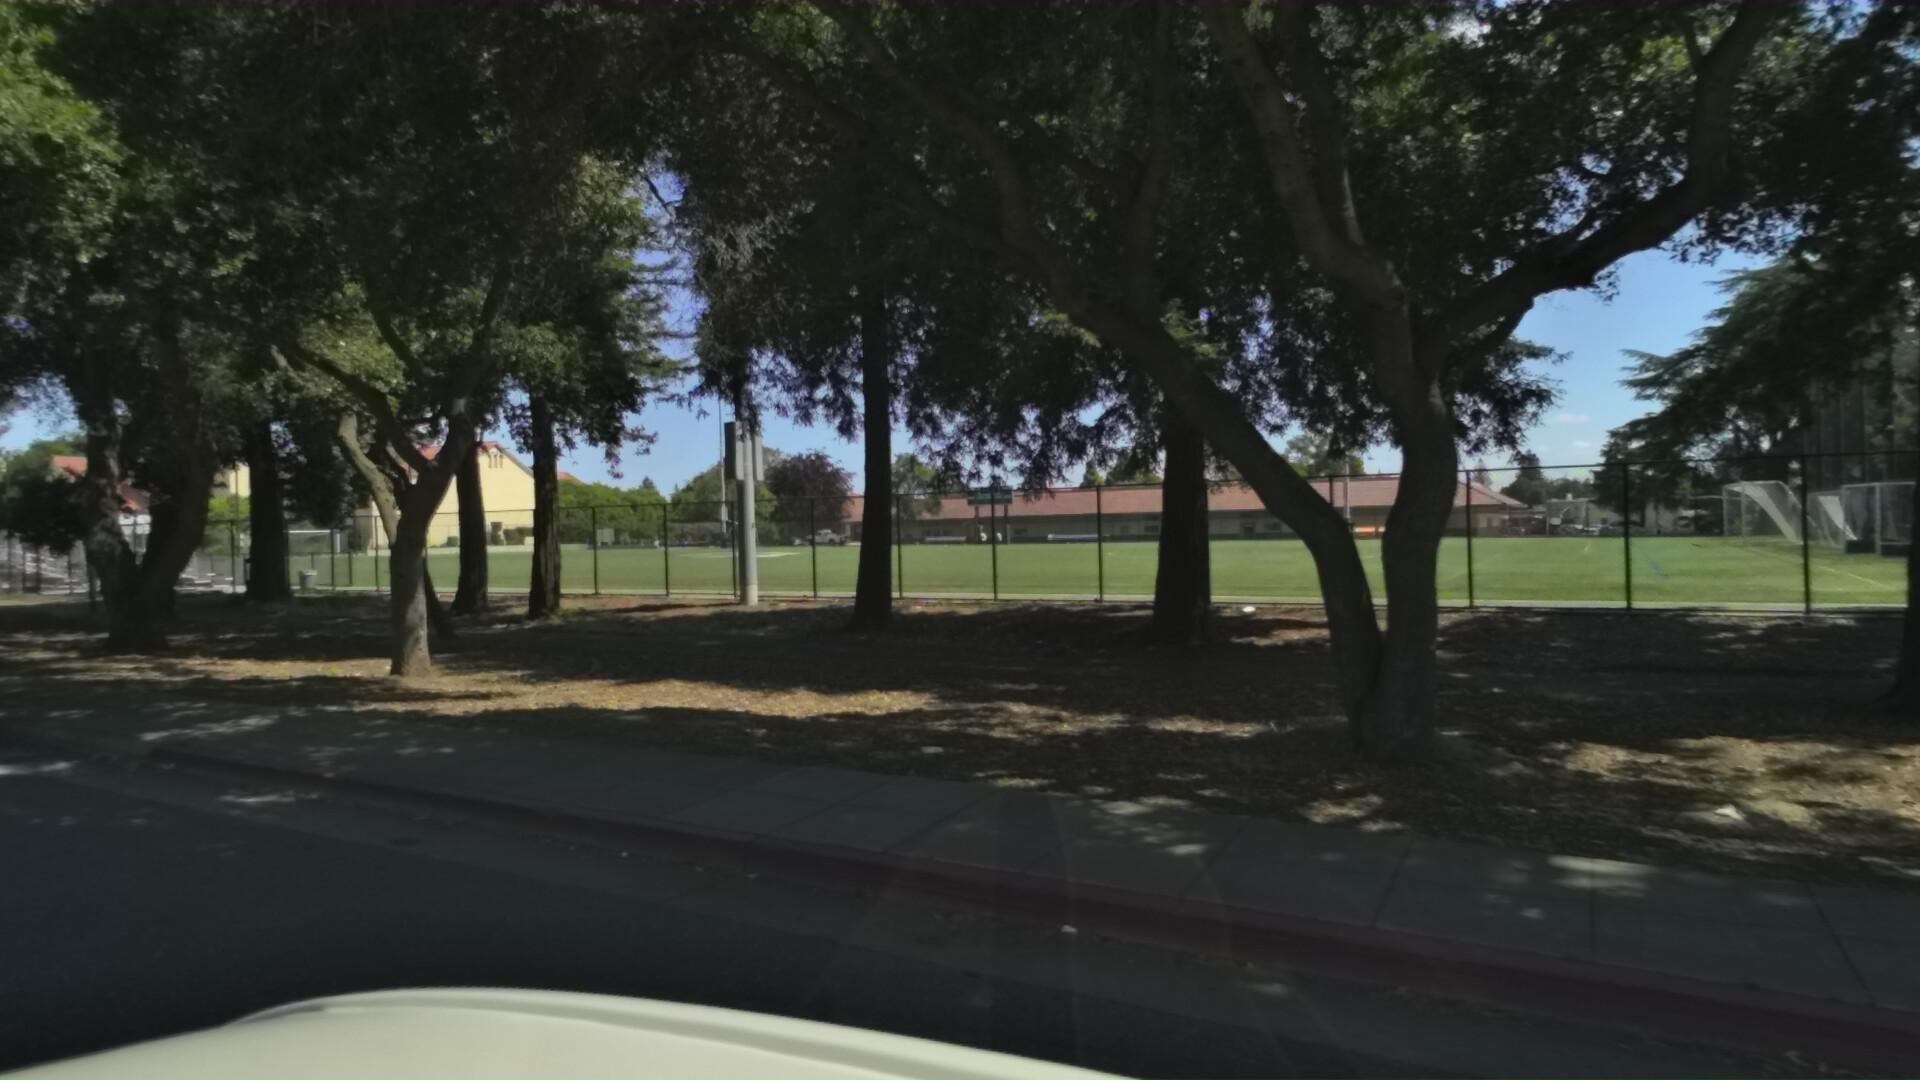car: (0, 549, 11, 789)
